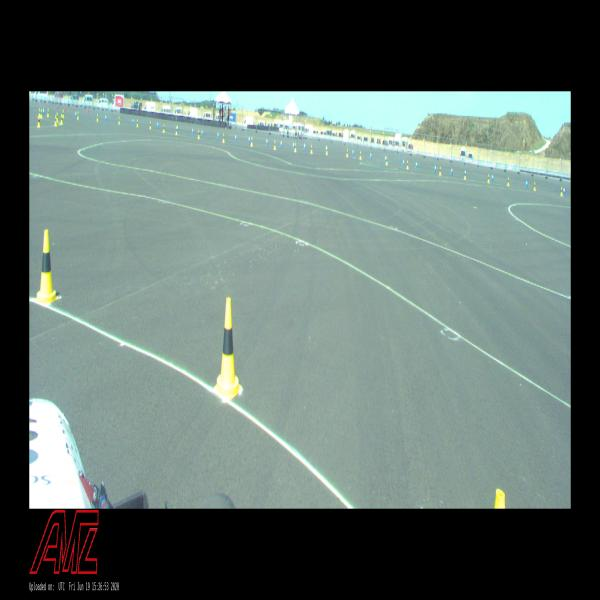blue_cone: (451, 166, 453, 175), (235, 134, 237, 142), (526, 180, 528, 188), (266, 138, 268, 146), (201, 128, 203, 136), (384, 154, 386, 162), (217, 131, 219, 139), (280, 140, 282, 148), (132, 117, 134, 124), (105, 114, 107, 121), (157, 121, 159, 128), (325, 145, 327, 152), (192, 128, 194, 134), (352, 149, 354, 155), (248, 136, 250, 142), (75, 111, 77, 117), (370, 152, 372, 158), (177, 125, 179, 131), (464, 169, 466, 175), (293, 141, 294, 149), (435, 164, 436, 172), (492, 173, 493, 181), (403, 158, 404, 166), (304, 142, 305, 150), (564, 186, 565, 194), (416, 161, 417, 168), (43, 108, 44, 114)
yellow_cone: (213, 299, 241, 401), (34, 230, 58, 305), (406, 160, 409, 169), (38, 116, 40, 127), (274, 140, 276, 150), (54, 116, 56, 126), (222, 133, 224, 142), (508, 177, 510, 186), (60, 115, 62, 124), (251, 137, 253, 146), (560, 187, 562, 196), (38, 108, 40, 117), (488, 174, 490, 182), (439, 167, 441, 175), (534, 182, 536, 190), (198, 130, 200, 138), (346, 149, 348, 157), (176, 127, 178, 135), (47, 109, 49, 116), (163, 125, 165, 132), (386, 157, 388, 164), (326, 147, 328, 154), (464, 172, 466, 179), (77, 112, 79, 118), (295, 143, 296, 152), (57, 112, 58, 121), (360, 151, 361, 159), (311, 145, 312, 153), (63, 110, 64, 118), (41, 110, 42, 118), (119, 117, 120, 124), (97, 114, 98, 121), (137, 120, 138, 126), (150, 122, 151, 128)
